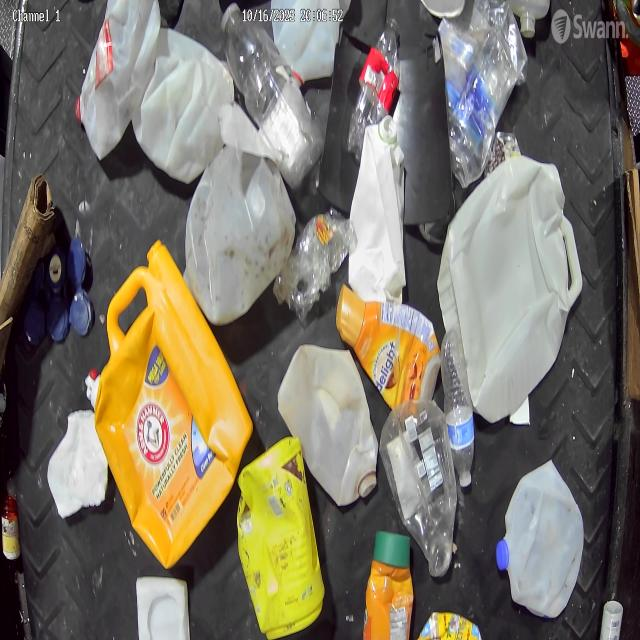can: (483, 130, 522, 177)
milk_jug: (437, 154, 584, 423), (183, 142, 297, 327), (130, 23, 237, 185), (276, 343, 379, 508), (494, 458, 584, 620), (75, 0, 161, 162), (347, 114, 407, 302), (271, 0, 341, 90)
non_white_jug: (85, 236, 254, 572), (235, 434, 326, 640)
plastic_bottle: (221, 2, 326, 190), (347, 14, 400, 163), (440, 327, 476, 488)
